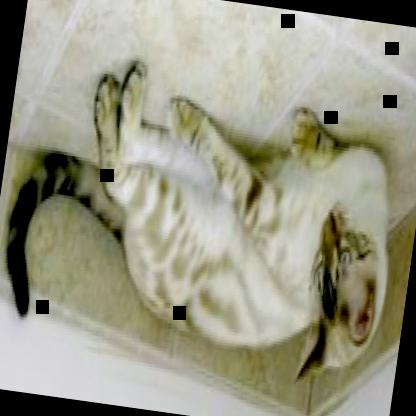cat: (0, 46, 413, 396)
